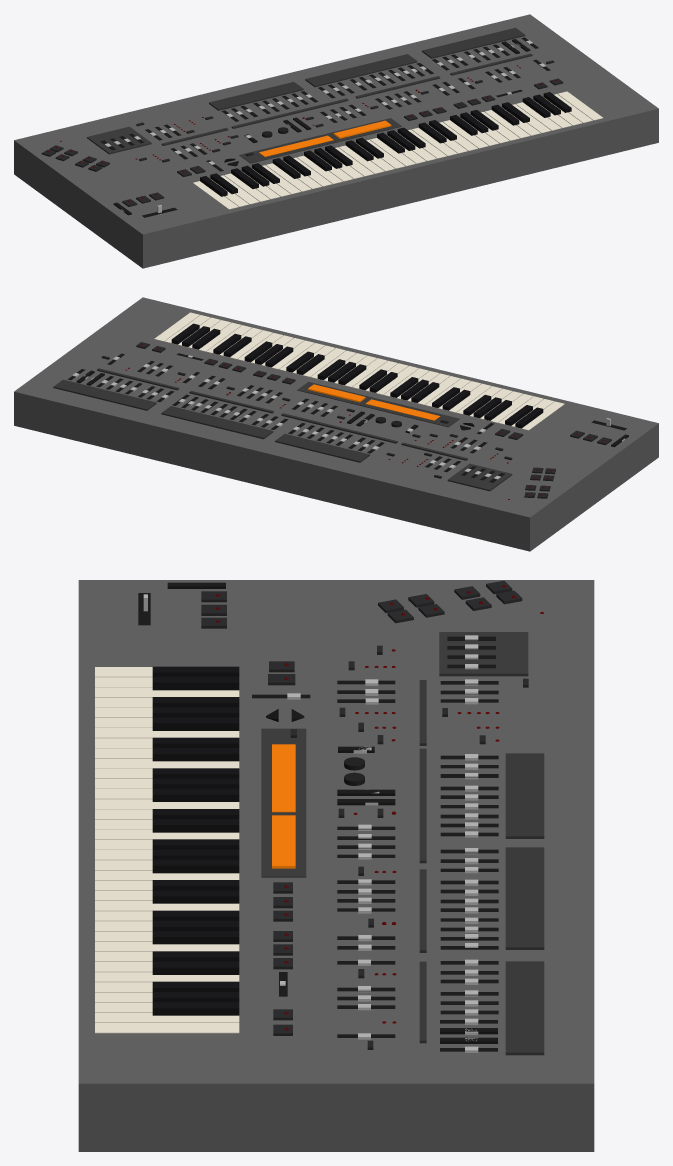
File: Tes2t.glb
The picture shows the model from 3 angles, top to bottom: view 1: azimuth 30°, elevation 25°; view 2: azimuth 150°, elevation 25°; view 3: azimuth 270°, elevation 25°; orthographic projection. The views are drawn at different scales.
Visible parts, largest first — view 1: synth_body.1, panel3, panel1.1, panel3.1, panel2, panel1, panel1.2, panel1.5, panel1.3, Key_C6; view 2: synth_body.1, panel3, panel1.1, panel3.1, panel2, panel1, panel1.2, panel1.5, panel1.3, Key_C6; view 3: synth_body.1, panel3, panel1.1, panel3.1, panel2, panel1, panel1.2, Key_C6, Key_B4, Key_E2, Key_E4, Key_E3 (+33 smaller).
Boxes of the visible parts, x1,y1,x2,y2 form: synth_body.1: [14, 14, 658, 268]; panel3: [305, 54, 417, 87]; panel1.1: [239, 118, 401, 163]; panel3.1: [422, 27, 525, 58]; panel2: [209, 82, 303, 110]; panel1: [87, 126, 151, 154]; panel1.2: [259, 135, 333, 156]; panel1.5: [231, 98, 348, 128]; panel1.3: [333, 120, 391, 138]; Key_C6: [558, 91, 602, 120]; synth_body.1: [14, 297, 658, 551]; panel3: [161, 406, 273, 439]; panel1.1: [297, 382, 459, 427]; panel3.1: [53, 379, 156, 410]; panel2: [275, 434, 369, 462]; panel1: [447, 463, 512, 491]; panel1.2: [365, 399, 440, 420]; panel1.5: [281, 413, 397, 443]; panel1.3: [308, 384, 365, 402]; Key_C6: [154, 312, 199, 341]; synth_body.1: [78, 580, 594, 1151]; panel3: [505, 847, 544, 949]; panel1.1: [261, 728, 306, 877]; panel3.1: [505, 961, 544, 1055]; panel2: [505, 753, 544, 838]; panel1: [439, 632, 528, 676]; panel1.2: [272, 744, 295, 812]; Key_C6: [95, 1023, 239, 1033]; Key_B4: [95, 941, 239, 951]; Key_E2: [95, 758, 239, 768]; Key_E4: [95, 901, 239, 911]; Key_E3: [95, 829, 239, 839].
Size of what is drawn, in the model's own units: 7.96 by 0.6261 by 3.44.
